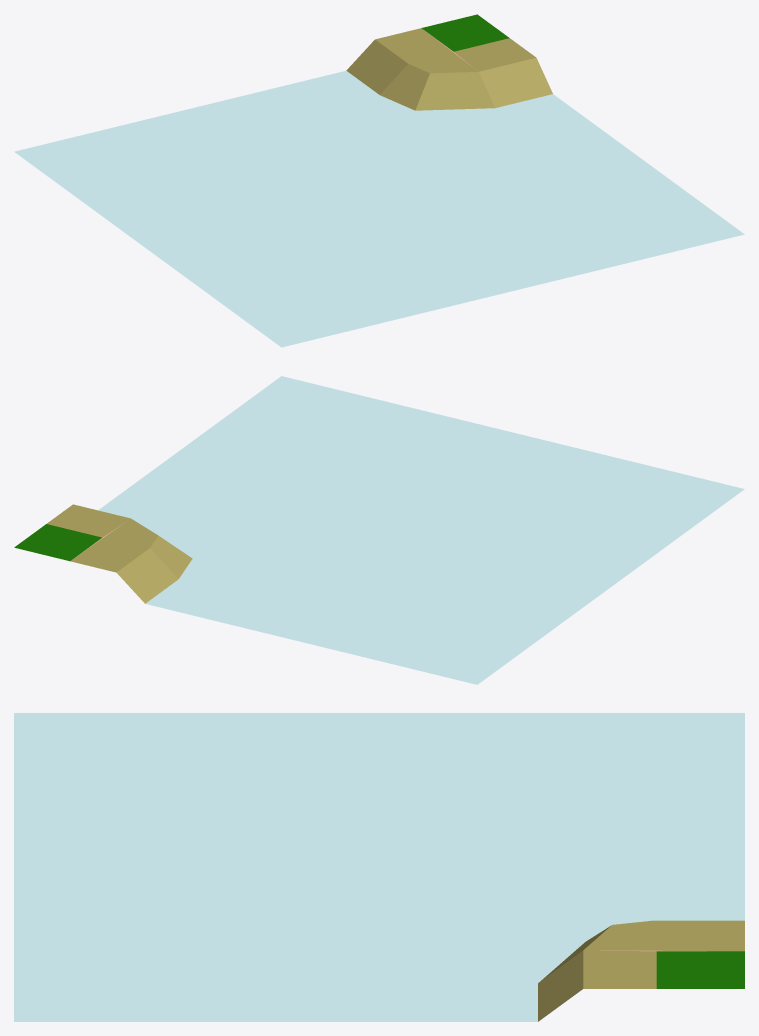
File: ground_riverCornerSmall.fbx
3 views of the same model, one above another, from view 1: azimuth 30°, elevation 25°; view 2: azimuth 150°, elevation 25°; view 3: azimuth 270°, elevation 25° (orthographic). The views are drawn at different scales.
Parts seen in each view (by area): view 1: ground_riverCornerSmall; view 2: ground_riverCornerSmall; view 3: ground_riverCornerSmall.
Part boxes in pixels (bbox=[...]): ground_riverCornerSmall: bbox=[14, 14, 744, 347]; ground_riverCornerSmall: bbox=[14, 376, 744, 684]; ground_riverCornerSmall: bbox=[14, 713, 744, 1021].
Bounding box in the file's own units: 100 × 5 × 100.
